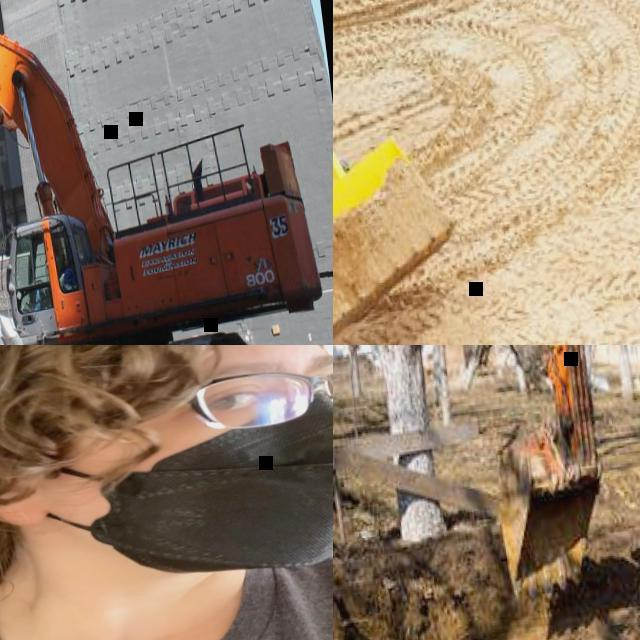machinery: (0, 0, 333, 345), (438, 345, 640, 640), (333, 0, 473, 345)
mask: (0, 379, 333, 601)
no_helmet: (0, 345, 317, 394)
no_vest: (0, 531, 333, 640)
person: (0, 345, 333, 640)
